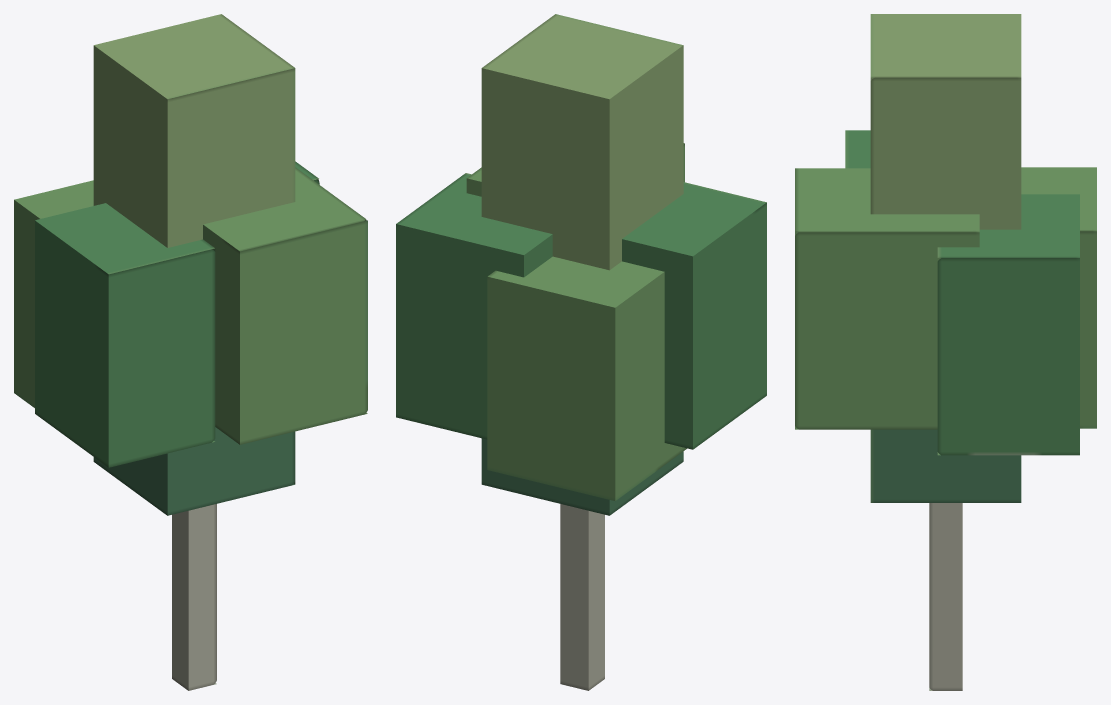
File: tree 3.fbx
3 views of the same model, side by side, from view 1: azimuth 30°, elevation 25°; view 2: azimuth 150°, elevation 25°; view 3: azimuth 270°, elevation 25° (orthographic). The views are drawn at different scales.
Parts seen in each view (by area): view 1: cube_3, cube_1, cube_2, cube_6, cube, cube_5; view 2: cube_1, cube_5, cube_3, cube_4, cube, cube_6; view 3: cube_2, cube_4, cube_1, cube_6, cube, cube_5, cube_3.
Part boxes in pixels (box(x1,y1,x2,y2)): cube_3: box(35, 203, 215, 467); cube_1: box(93, 14, 295, 247); cube_2: box(203, 167, 367, 444); cube_6: box(93, 427, 295, 515); cube: box(172, 504, 216, 690); cube_5: box(14, 180, 93, 407); cube_1: box(481, 14, 683, 270); cube_5: box(487, 256, 686, 500); cube_3: box(622, 182, 766, 449); cube_4: box(396, 173, 552, 439); cube: box(560, 504, 604, 690); cube_6: box(481, 438, 683, 515); cube_2: box(795, 168, 979, 429); cube_4: box(937, 194, 1079, 455); cube_1: box(870, 14, 1021, 229); cube_6: box(870, 429, 1021, 502); cube: box(929, 503, 962, 690); cube_5: box(1021, 167, 1096, 428); cube_3: box(845, 130, 870, 168).
Size of the model in its own units: 225 by 525 by 225.
1 material, 1 textured.
